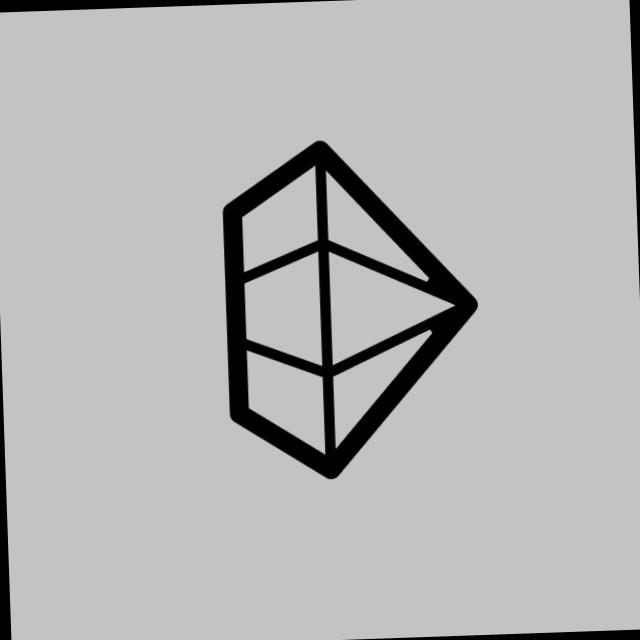diamond: (215, 130, 492, 489)
